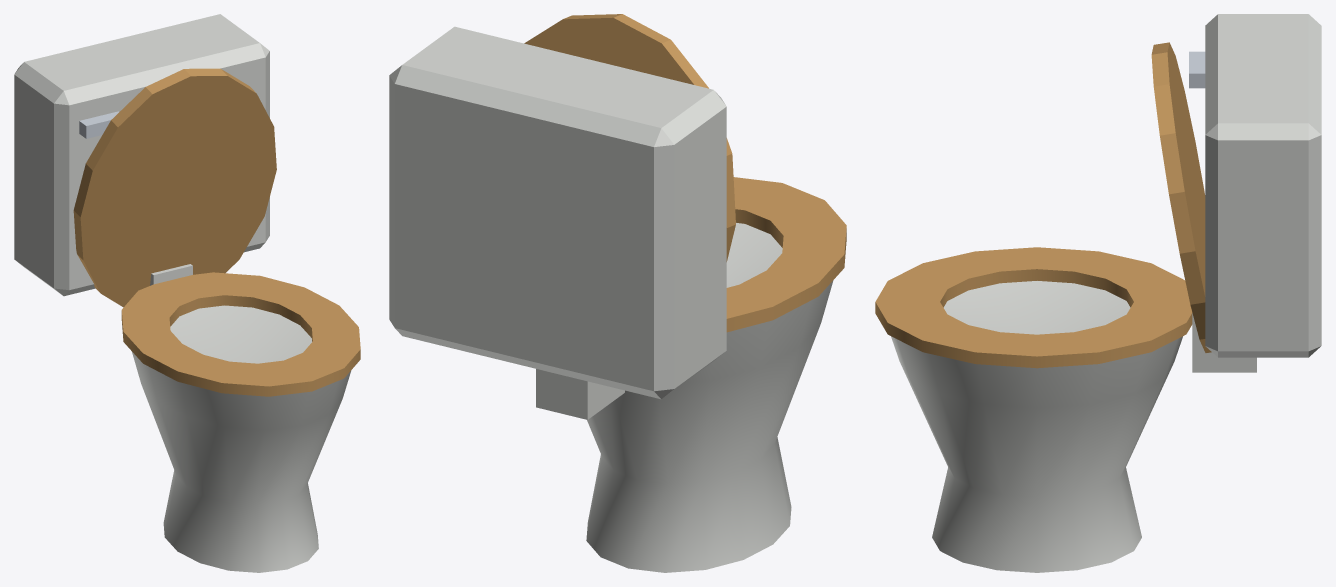
File: toilet.glb
3 renders of one model, left to right at view 1: azimuth 30°, elevation 25°; view 2: azimuth 150°, elevation 25°; view 3: azimuth 270°, elevation 25°, orthographic. The views are drawn at different scales.
Parts seen in each view (by area): view 1: Toilet bowl, Toilet lid, Toilet cistern, Toilet seat, Flush handle, Toilet pipe; view 2: Toilet cistern, Toilet bowl, Toilet seat, Toilet lid, Toilet pipe; view 3: Toilet bowl, Toilet cistern, Toilet seat, Toilet lid, Toilet pipe, Flush handle.
Boxes of the visible parts, x1=… form: Toilet bowl: x1=132, y1=305, x2=351, y2=572; Toilet lid: x1=73, y1=68, x2=276, y2=307; Toilet cistern: x1=14, y1=14, x2=269, y2=296; Toilet seat: x1=121, y1=272, x2=360, y2=396; Flush handle: x1=79, y1=111, x2=118, y2=138; Toilet pipe: x1=150, y1=264, x2=192, y2=285; Toilet cistern: x1=389, y1=26, x2=726, y2=399; Toilet bowl: x1=586, y1=223, x2=833, y2=572; Toilet seat: x1=726, y1=177, x2=846, y2=332; Toilet lid: x1=524, y1=14, x2=735, y2=261; Toilet pipe: x1=536, y1=369, x2=624, y2=419; Toilet bowl: x1=891, y1=281, x2=1182, y2=572; Toilet cistern: x1=1205, y1=14, x2=1321, y2=357; Toilet seat: x1=875, y1=247, x2=1192, y2=368; Toilet lid: x1=1151, y1=42, x2=1211, y2=352; Toilet pipe: x1=1192, y1=313, x2=1256, y2=372; Flush handle: x1=1189, y1=51, x2=1205, y2=88.
Size of the model in its own units: 0.44 by 0.828 by 0.69.
